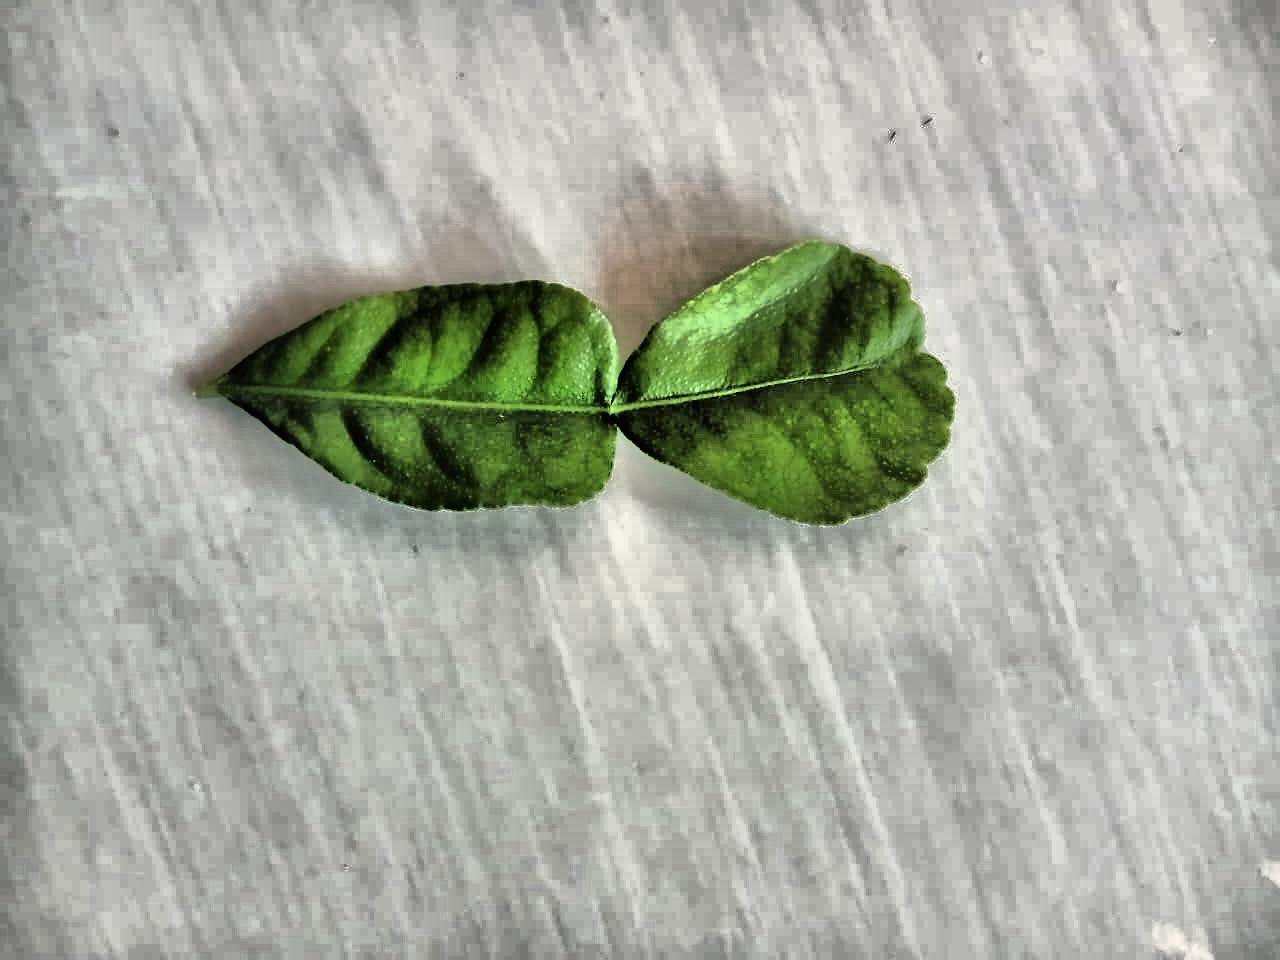daun jeruk: (205, 241, 954, 523)
